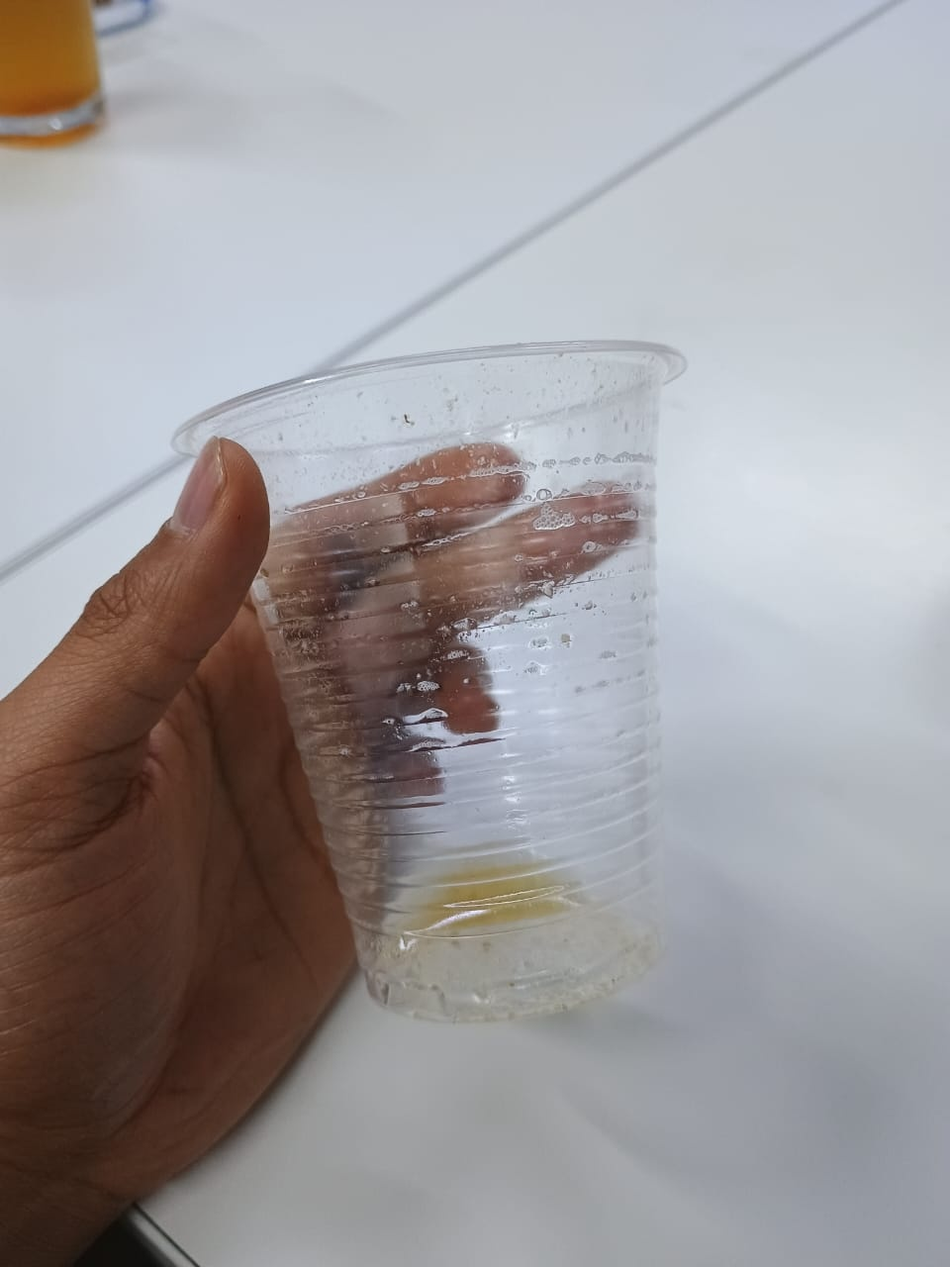Plastico: (170, 341, 693, 1028)
